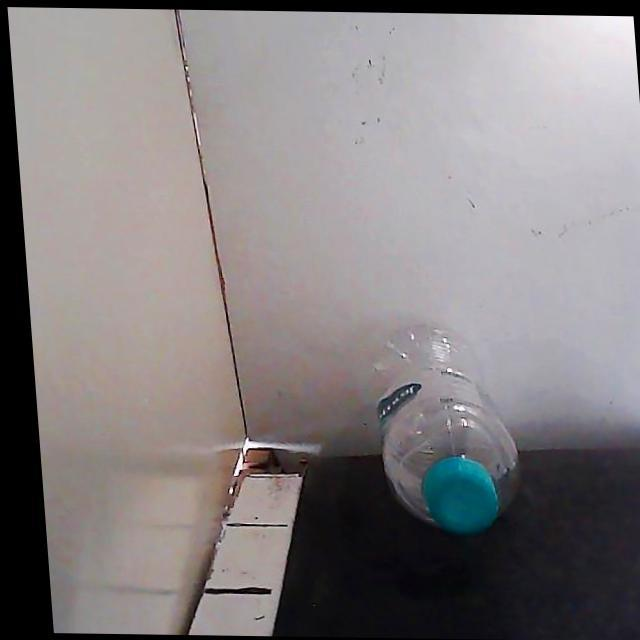plastico: (377, 325, 518, 534)
